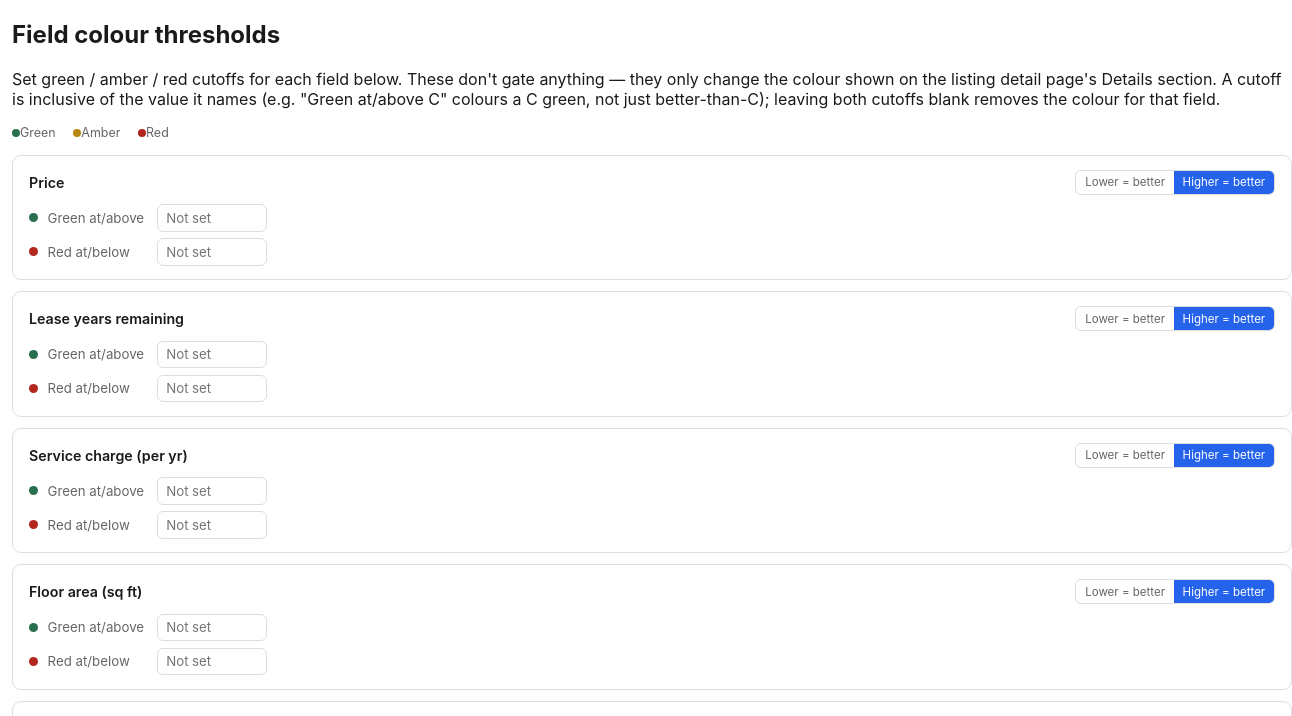
Test: FieldColorsAdminPanel › toggling direction flips the higher/lower label on the threshold rows
Expected: the text "Price" is shown, x1=29 y1=174 x2=64 y2=191
Expected: the text "Price" shows "Green at/above", x1=12 y1=155 x2=1291 y2=280
Click the button "Lower = better" in the row of "Price".
click(1125, 182)  # box x1=1076 y1=171 x2=1174 y2=194
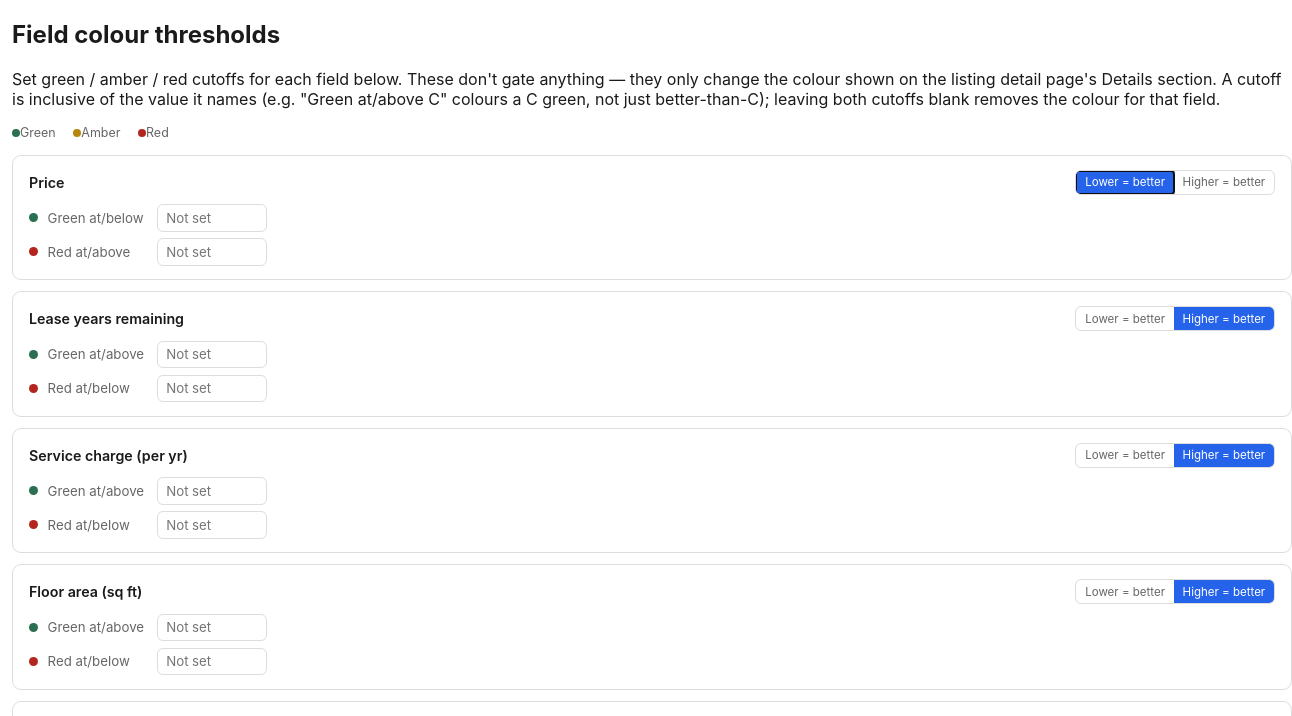
Now the text "Price" shows "Green at/below", box x1=12 y1=155 x2=1291 y2=280
